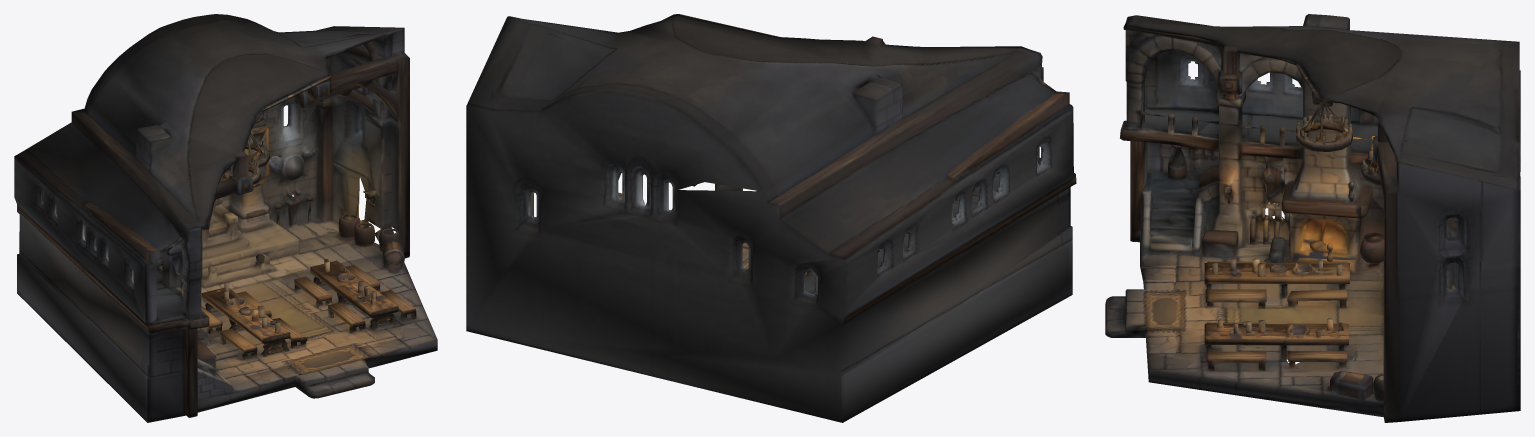
File: grand citadel interior 3d model.glb
3 views of the same model, side by side, from view 1: azimuth 30°, elevation 25°; view 2: azimuth 150°, elevation 25°; view 3: azimuth 270°, elevation 25° (orthographic). The views are drawn at different scales.
Parts seen in each view (by area): view 1: tripo_node_9a31bcd9-38bf-457d-91fe-ff575b9509c2; view 2: tripo_node_9a31bcd9-38bf-457d-91fe-ff575b9509c2; view 3: tripo_node_9a31bcd9-38bf-457d-91fe-ff575b9509c2.
Part boxes in pixels (bbox=[...]): tripo_node_9a31bcd9-38bf-457d-91fe-ff575b9509c2: bbox=[14, 14, 437, 422]; tripo_node_9a31bcd9-38bf-457d-91fe-ff575b9509c2: bbox=[466, 14, 1076, 422]; tripo_node_9a31bcd9-38bf-457d-91fe-ff575b9509c2: bbox=[1105, 14, 1520, 422].
Size of the model in its own units: 0.9782 by 0.6049 by 0.8251.
1 material, 1 textured.
